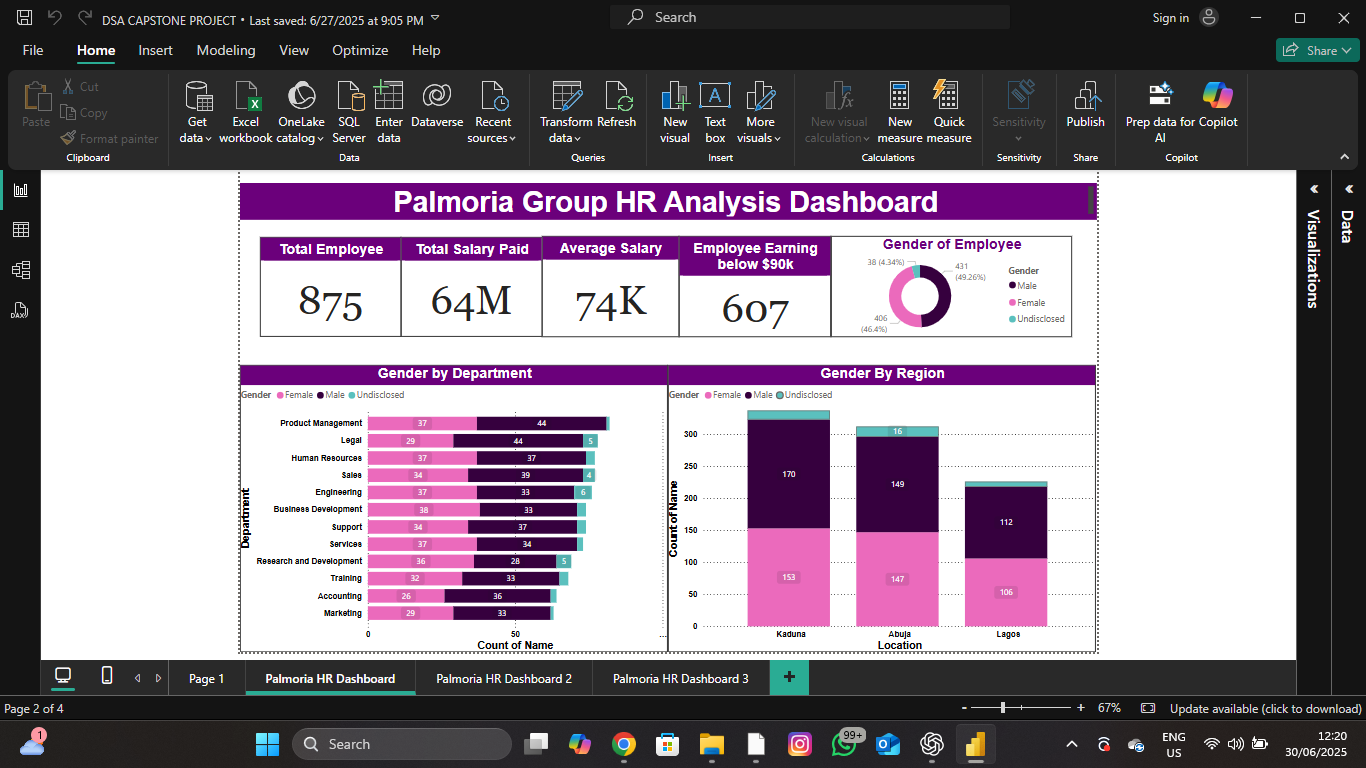

This screenshot's page, from the dashboard's own definition file:
{"tool":"powerbi","page":{"name":"Palmoria HR Dashboard","canvas":[1280,720],"ordinal":1},"visuals":[{"type":"textbox","box":[0,20,1280,55.4],"z":0},{"type":"card","title":"Total Employee","fields":{"Values":["Palmoria Group emp-data.Name"]},"box":[29.9,100.1,210.6,149.4],"z":1000},{"type":"donutChart","title":"Gender of Employee","fields":{"Category":["Palmoria Group emp-data.Gender"],"Y":["Palmoria Group emp-data.Name"]},"box":[882.8,98.6,360,150.9],"z":2000},{"type":"card","title":"Average Salary","fields":{"Values":["Palmoria Group emp-data.Salary"]},"box":[451.1,98.6,204.6,150.9],"z":3000},{"type":"card","title":"Employee Earning below $90k","fields":{"Values":["Palmoria Group emp-data.Name"]},"box":[655.8,98.6,227.1,150.9],"z":4000},{"type":"columnChart","title":"Gender By Region","fields":{"Category":["Palmoria Group emp-data.Location"],"Y":["Palmoria Group emp-data.Name"],"Series":["Palmoria Group emp-data.Gender"]},"box":[639.3,291.3,639.3,428.7],"z":5000},{"type":"barChart","title":"Gender by Department","fields":{"Category":["Palmoria Group emp-data.Department"],"Y":["Palmoria Group emp-data.Name"],"Series":["Palmoria Group emp-data.Gender"]},"box":[0,291.3,639.3,428.7],"z":6000},{"type":"card","title":"Total Salary Paid","fields":{"Values":["Palmoria Group emp-data.Salary"]},"box":[240.5,100.1,210.6,149.4],"z":7000}]}

Visuals, with their boxes on the page's 1280x720 design canvas (x1, y1, x2, y2). These are canvas units, not pixel positions in the 1366x768 screenshot, which may show the page scaled, cropped or inside an application window:
textbox: bbox(0, 20, 1280, 75)
"Total Employee" card: bbox(30, 100, 240, 250)
"Gender of Employee" donutChart: bbox(883, 99, 1243, 250)
"Average Salary" card: bbox(451, 99, 656, 250)
"Employee Earning below $90k" card: bbox(656, 99, 883, 250)
"Gender By Region" columnChart: bbox(639, 291, 1279, 720)
"Gender by Department" barChart: bbox(0, 291, 639, 720)
"Total Salary Paid" card: bbox(240, 100, 451, 250)
